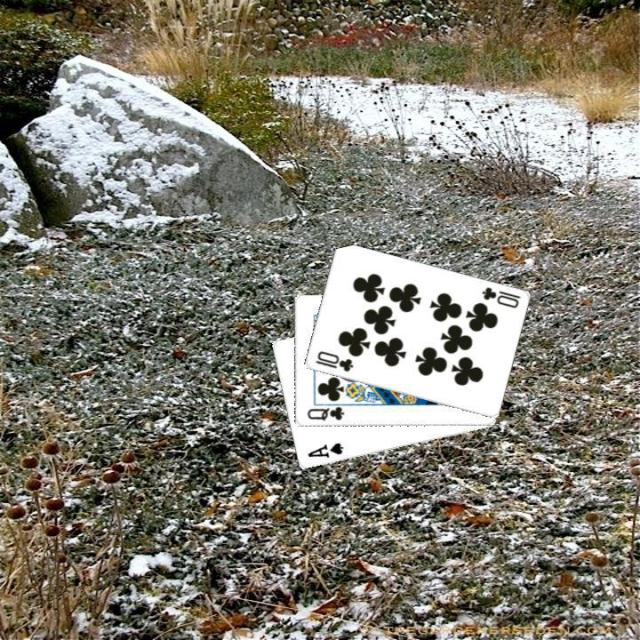10C: (477, 283, 522, 310), (311, 348, 355, 374)
AS: (303, 439, 345, 461)
QC: (303, 404, 346, 422)
